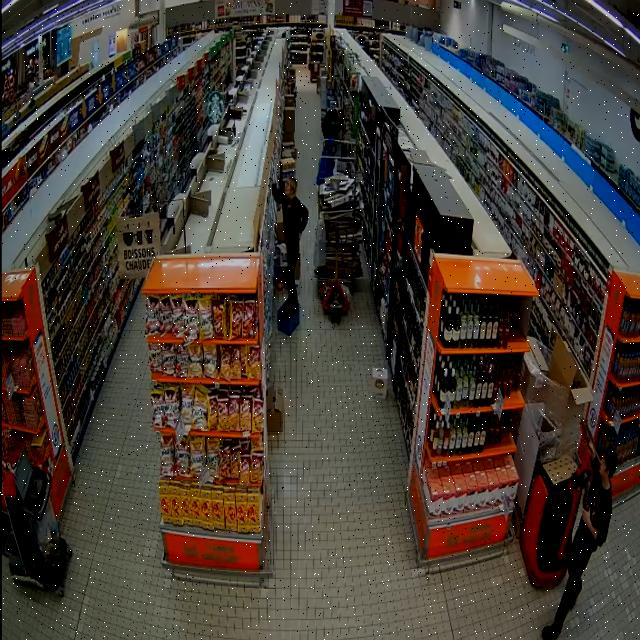article: (580, 420, 596, 455), (590, 490, 597, 522), (583, 485, 589, 511)
hands: (582, 508, 591, 525), (299, 232, 302, 239)
person: (543, 439, 617, 639), (273, 178, 308, 315)
